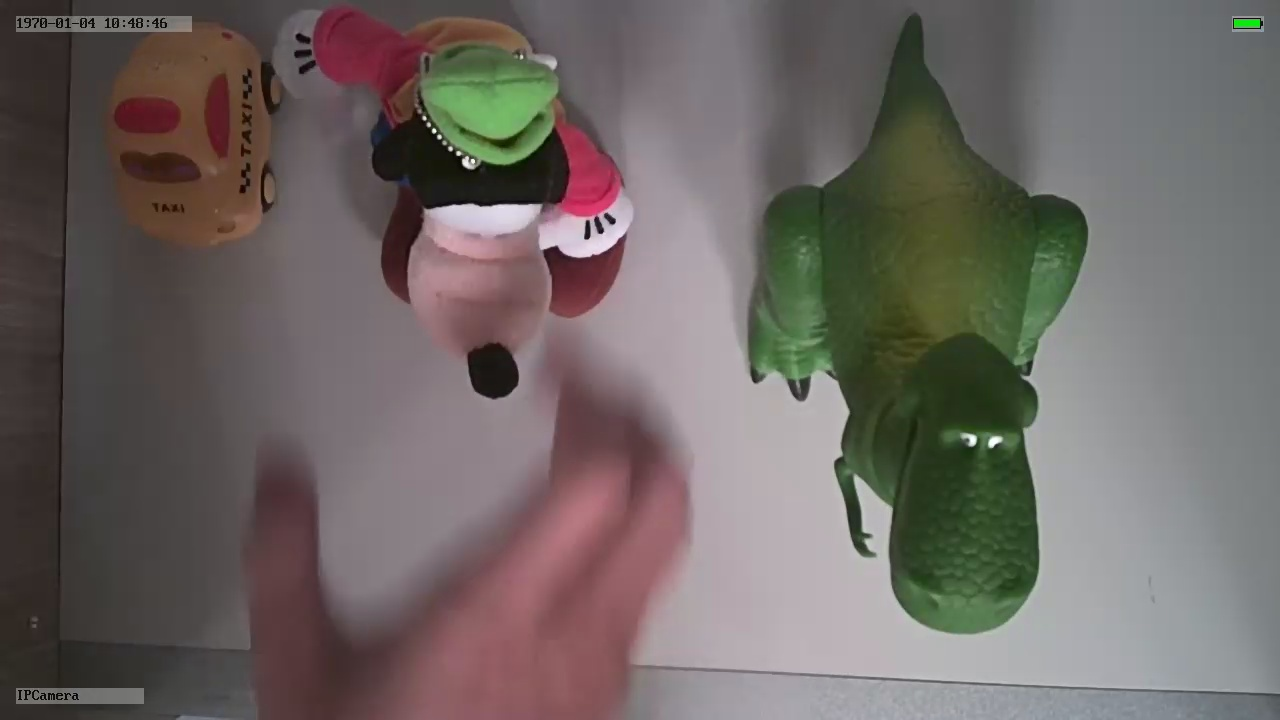goofy: (271, 16, 631, 398)
rex: (745, 103, 1091, 635)
